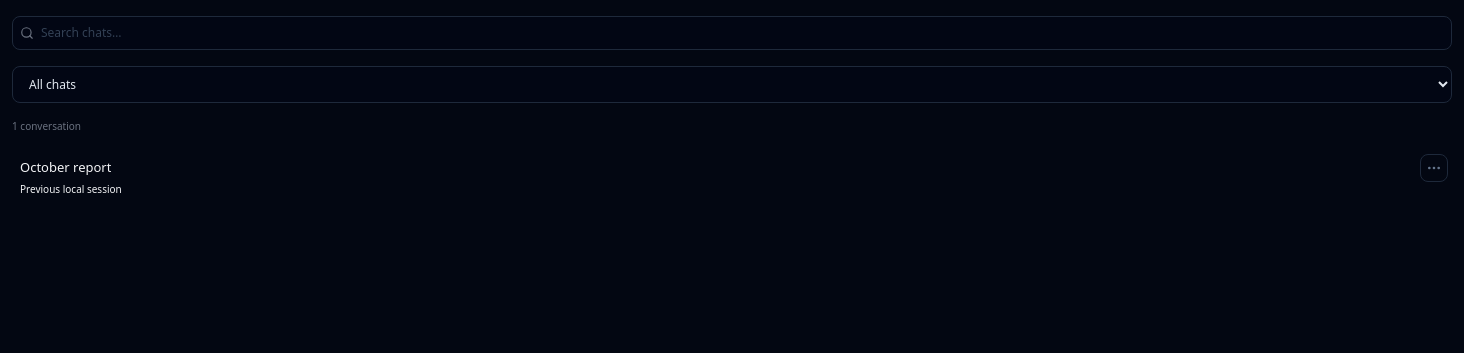
Test: conversation library controls › pins without leaving the menu open or changing the active computer
Click the button named "Options for October report" at (1434, 168), box left=1420, top=154, right=1448, bottom=182
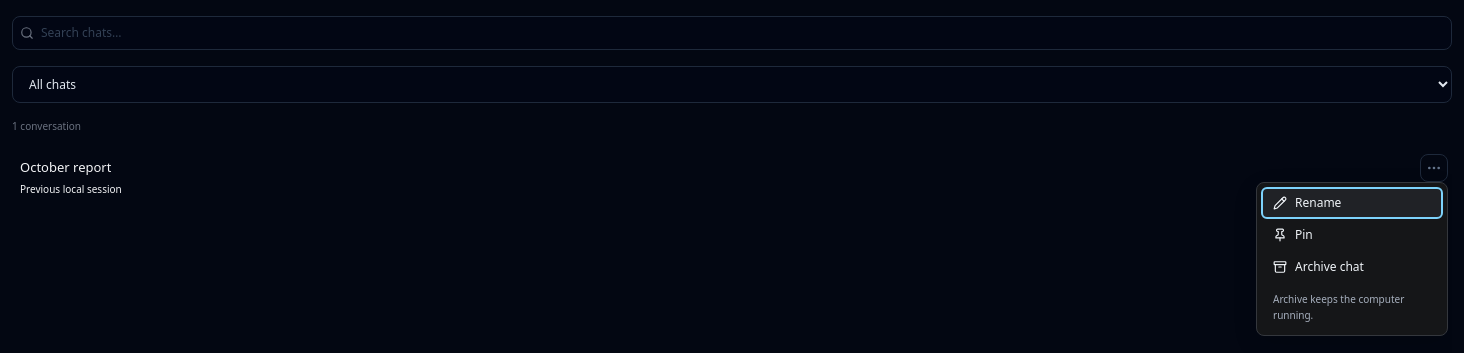
Click the menu item "Pin" at (1352, 235), box left=1261, top=219, right=1443, bottom=251
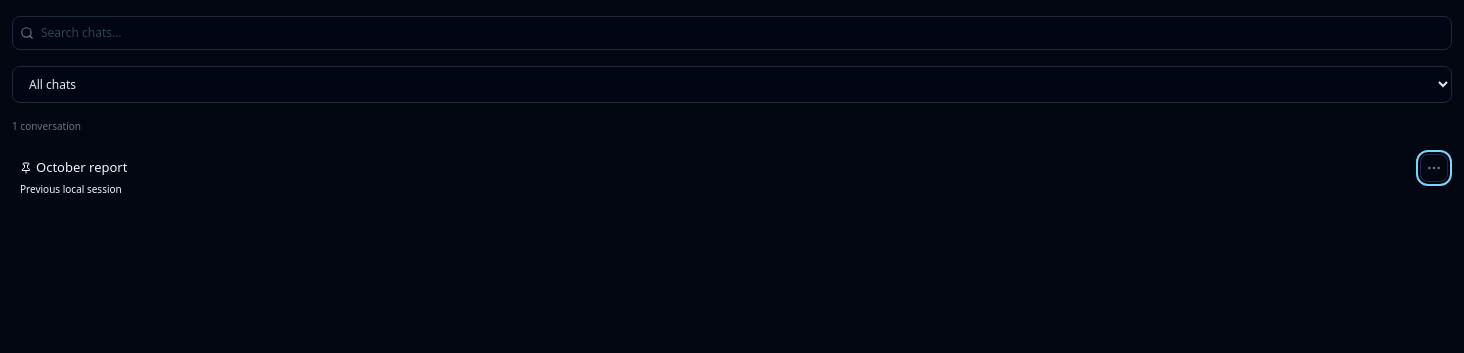
Now the menu is gone
